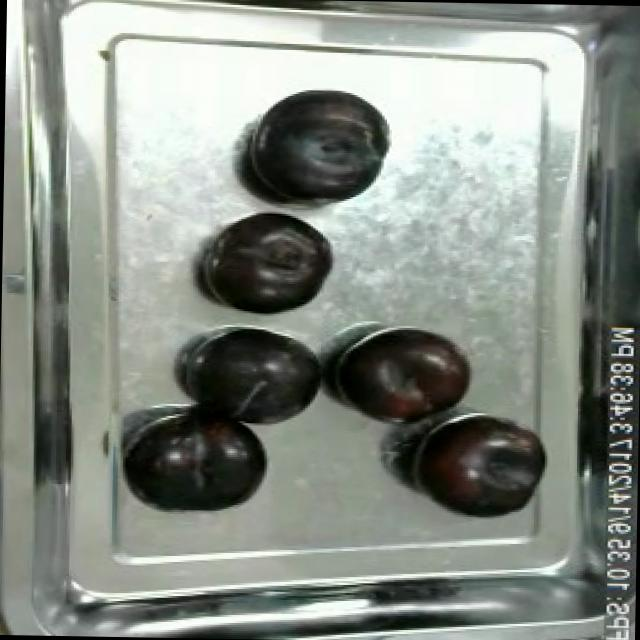Fruit: (240, 84, 391, 210), (120, 404, 276, 522), (178, 319, 332, 436), (401, 408, 552, 526), (326, 322, 476, 435), (198, 206, 339, 322)
